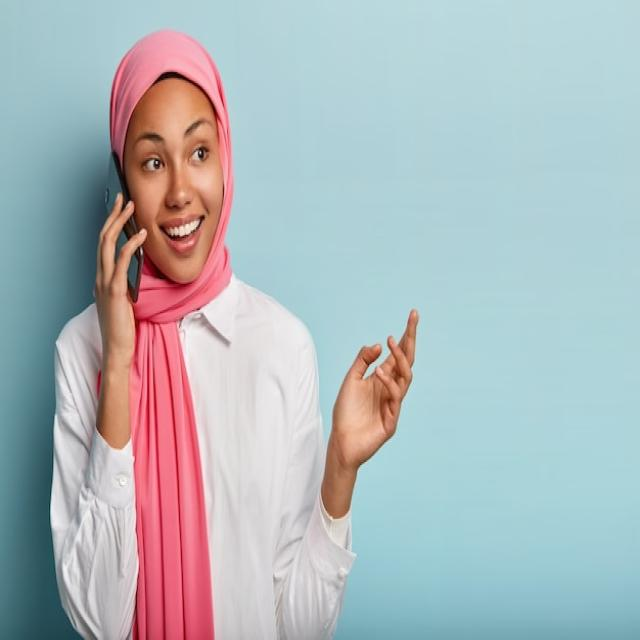Person: (51, 27, 419, 640)
